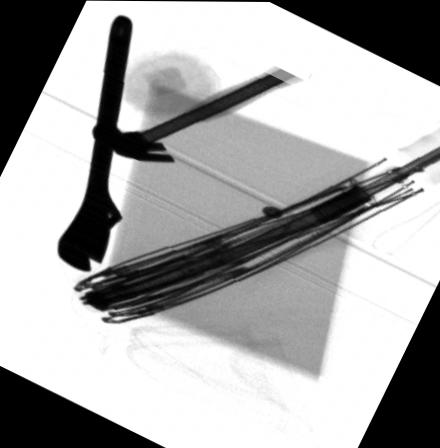Hammer: (89, 65, 307, 161)
Wrench: (57, 11, 133, 270)
